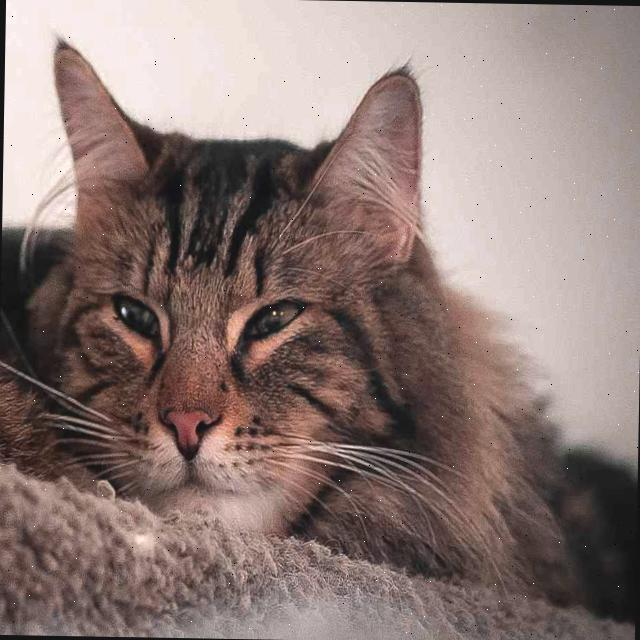domestic_long_hair_cat: (27, 17, 513, 609)
